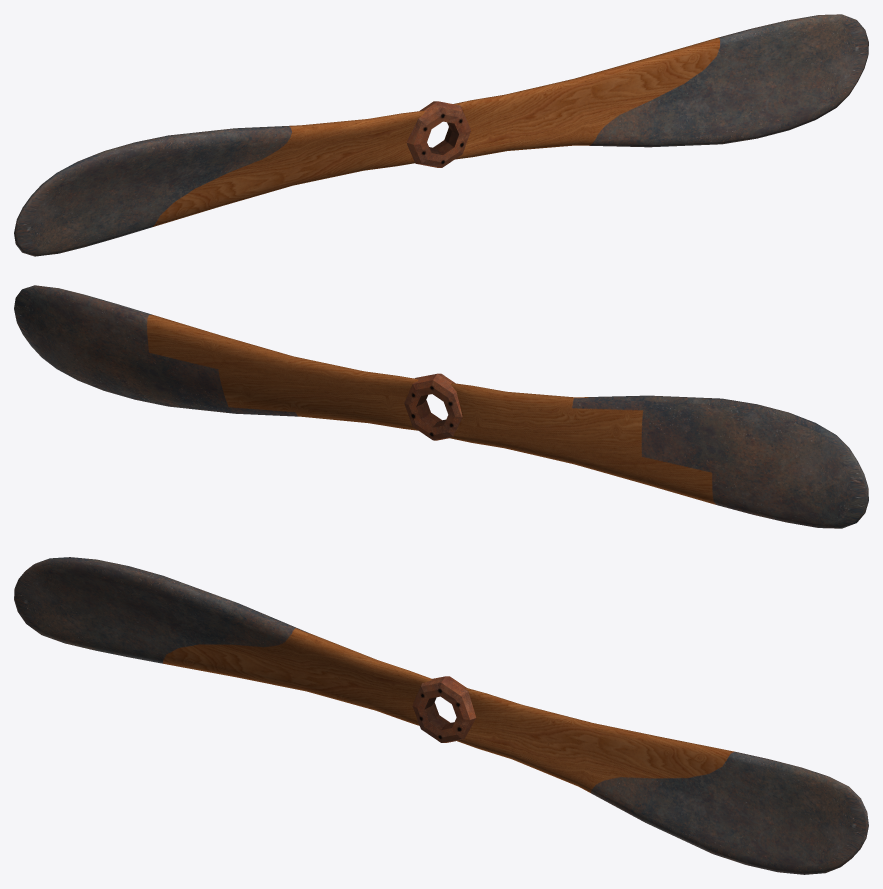
File: twoBladedPropeller.glb
3 views of the same model, one above another, from view 1: azimuth 30°, elevation 25°; view 2: azimuth 150°, elevation 25°; view 3: azimuth 330°, elevation 25° (orthographic).
Visible parts, largest first — view 1: blade1, blade3, center; view 2: blade3, blade1, center; view 3: blade1, blade3, center.
Part boxes in pixels (x1,y1,x2,y2): blade1: [453, 14, 868, 159]; blade3: [14, 110, 424, 256]; center: [406, 101, 470, 167]; blade3: [448, 383, 868, 528]; blade1: [14, 285, 418, 430]; center: [404, 373, 462, 440]; blade1: [456, 687, 868, 874]; blade3: [14, 557, 431, 725]; center: [412, 676, 475, 742].
Size of the model in its own units: 0.1005 by 0.0164 by 0.00395.
2 materials, 2 textured.
